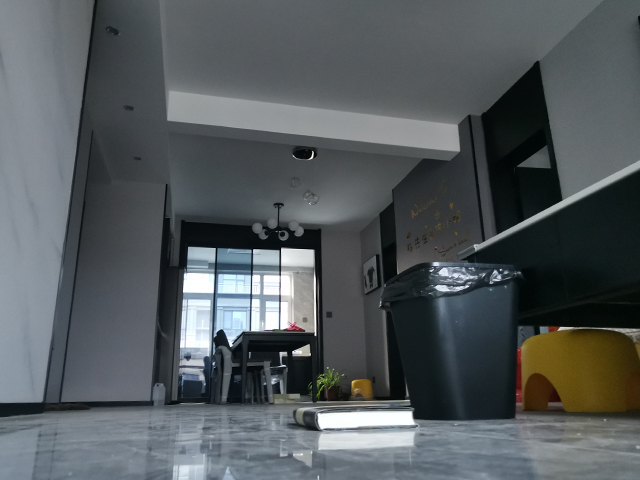book: (291, 404, 419, 431)
stool: (519, 327, 640, 417), (211, 328, 272, 404), (249, 347, 288, 394), (348, 378, 373, 401)
table: (458, 155, 640, 416), (230, 329, 320, 405)
trashcan: (379, 260, 522, 423)
